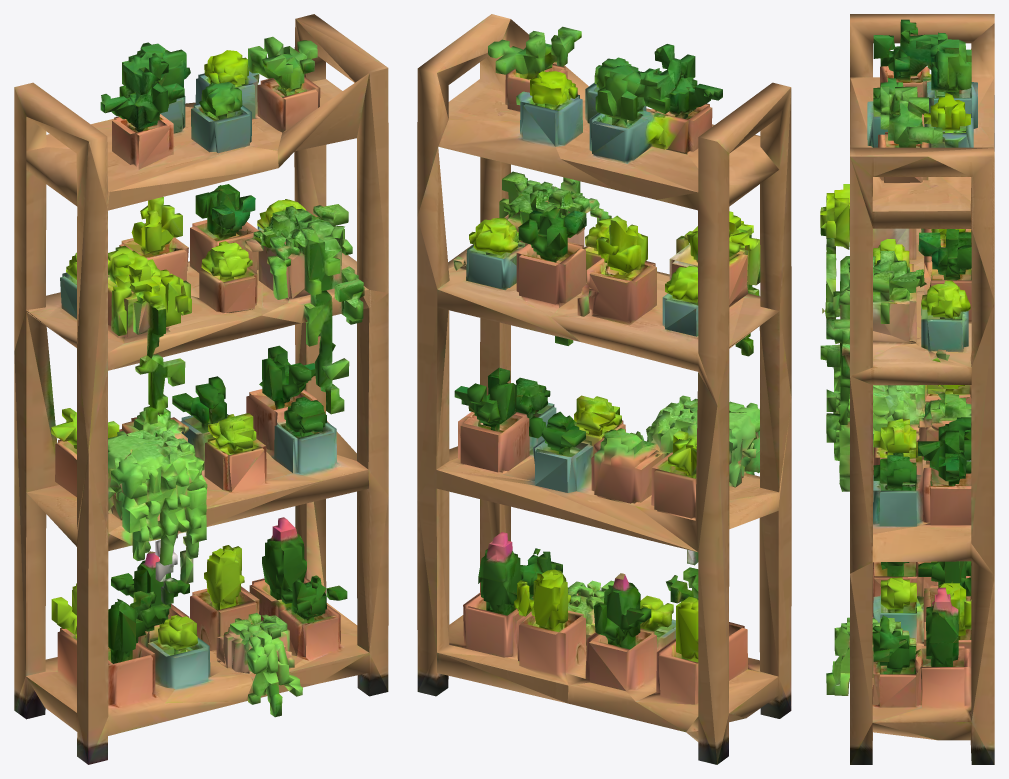
Rendered from plant_shelf.glb.
3 renders of one model, left to right at view 1: azimuth 30°, elevation 25°; view 2: azimuth 150°, elevation 25°; view 3: azimuth 270°, elevation 25°, orthographic. The views are drawn at different scales.
Size of the model in its own units: 0.9486 by 2 by 0.4894.
1 material, 1 textured.
